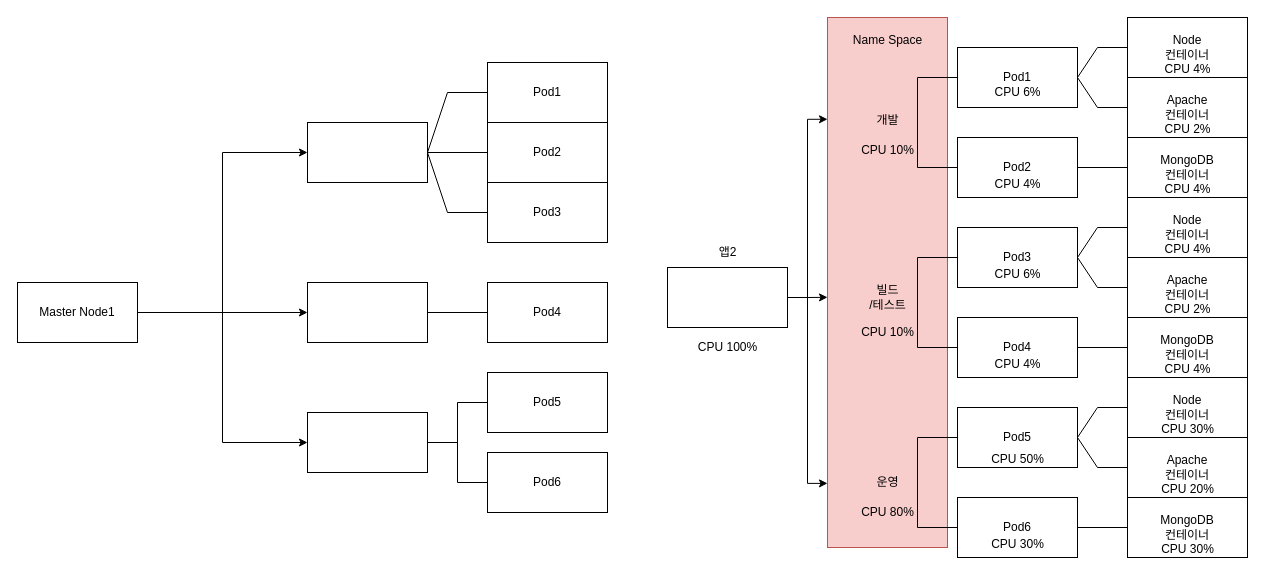
This 1265x582 diagram has some shape labels left out. Each missing label, with the centre of its shape:
"Work Node1" goes at point 367,152.
"Work Node2" goes at point 367,312.
"Work Node3" goes at point 367,442.
"클러스터1" goes at point 727,297.
